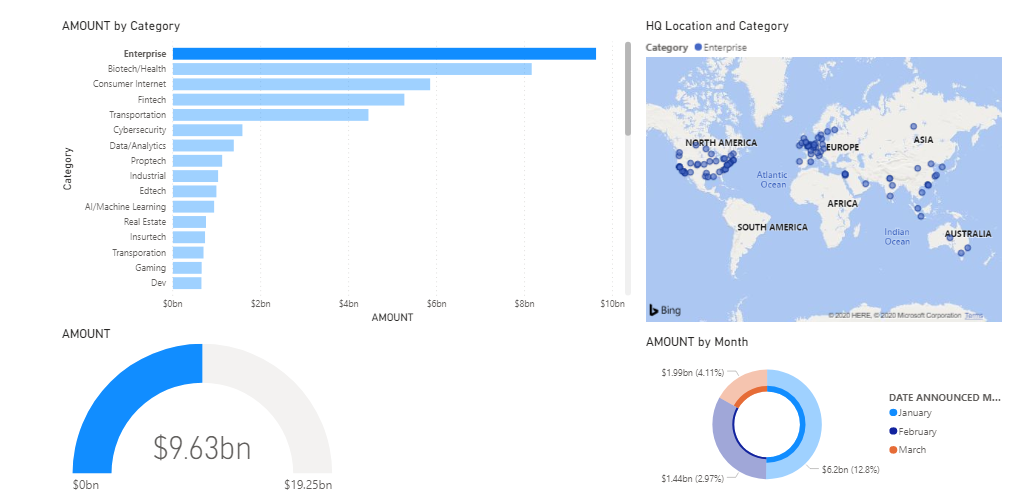

What the dashboard file says about the page in this screenshot:
{"tool":"powerbi","page":{"name":"Page 1","canvas":[1280,720],"ordinal":0},"visuals":[{"type":"barChart","fields":{"Category":["Data.Category"],"Y":["Sum(Data.AMOUNT)"]},"box":[0,68.9,779.4,416.6],"z":0},{"type":"map","fields":{"Category":["Data.HQ Location"],"Series":["Data.Category"]},"box":[789.4,68.9,490.6,416.6],"z":1000},{"type":"gauge","fields":{"Y":["Sum(Data.AMOUNT)"]},"box":[0,485.4,389.7,235.2],"z":2000},{"type":"donutChart","fields":{"Category":["Data.DATE ANNOUNCED.Variation.Date Hierarchy.Month","Data.DATE ANNOUNCED.Variation.Date Hierarchy.Day"],"Y":["Sum(Data.AMOUNT)"]},"box":[789.5,495.5,490.5,225.1],"z":3000}]}

Visuals, with their boxes on the page's 1280x720 design canvas (x1, y1, x2, y2). These are canvas units, not pixel positions in the 1035x497 screenshot, which may show the page scaled, cropped or inside an application window:
barChart - Data.Category x Sum(Data.AMOUNT): <region>0, 69, 779, 486</region>
map - Data.HQ Location x Data.Category: <region>789, 69, 1280, 486</region>
gauge - Sum(Data.AMOUNT): <region>0, 485, 390, 721</region>
donutChart - Data.DATE ANNOUNCED.Variation.Date Hierarchy.Month x Data.DATE ANNOUNCED.Variation.Date Hierarchy.Day: <region>790, 496, 1280, 721</region>
